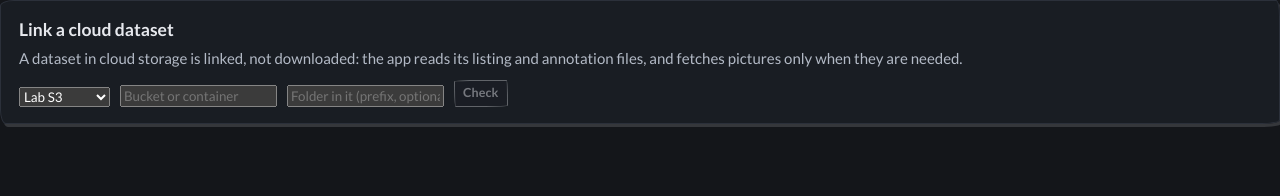
Test: CloudLink (doc 148) › uses the connection the user picks, and says why a check was refused
Select "Team Azure" in the dropdown named "Connection" at (64, 97), box 19,87 -> 110,107
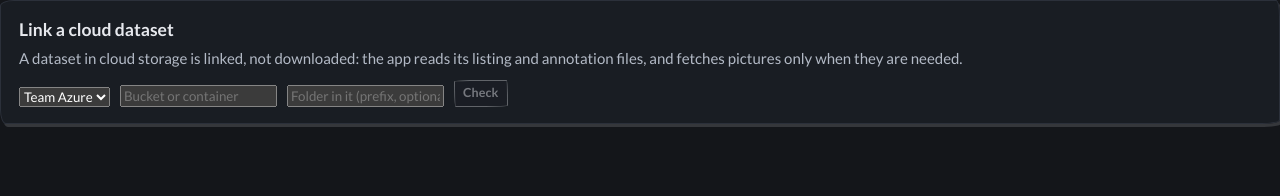
Type "photos" into the field labelled "Bucket or container" at (198, 96), box 120,85 -> 277,107
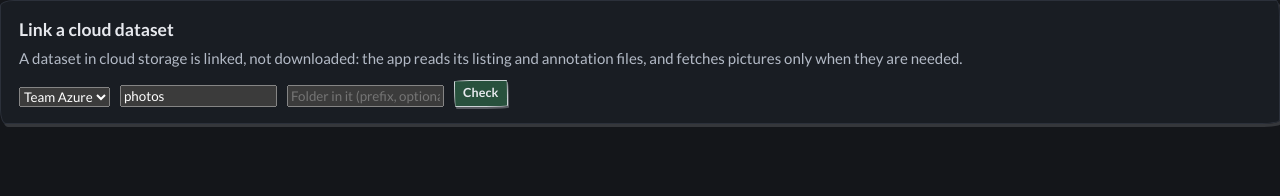
Click the button "Check" at (481, 93), box 454,80 -> 508,107
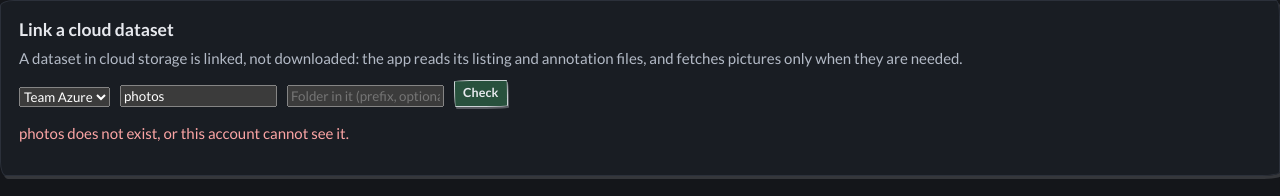
expect the message shows "does not exist": met, box 19,124 -> 349,142
